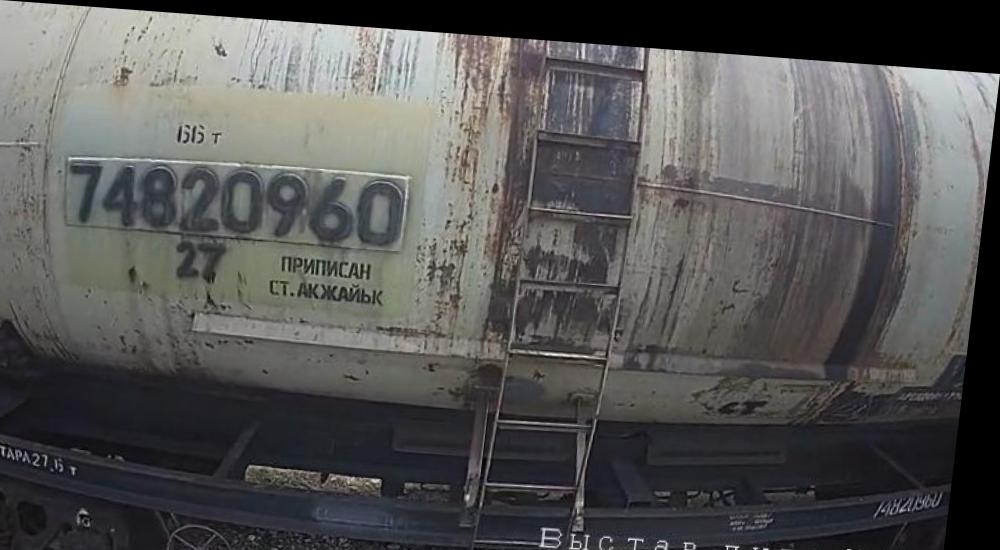Wagon-number: (64, 150, 416, 248)
